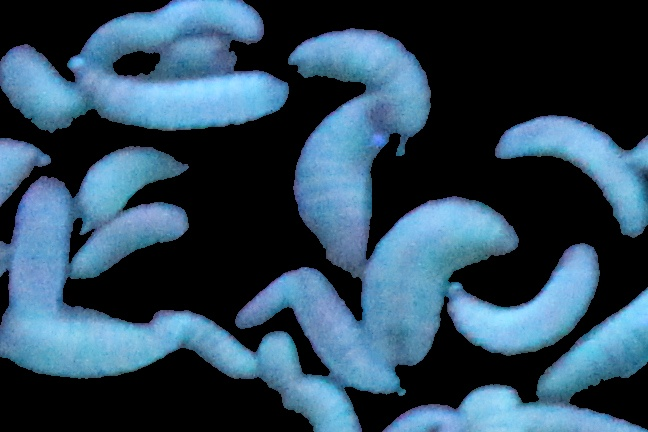larvae: (362, 204, 515, 353), (497, 107, 645, 242), (450, 245, 598, 351), (519, 290, 648, 403), (292, 262, 400, 393), (291, 99, 377, 262), (294, 26, 430, 128), (83, 70, 286, 125), (12, 185, 79, 318), (3, 323, 165, 376), (1, 41, 82, 129), (81, 220, 188, 279), (176, 311, 251, 386), (284, 373, 363, 432), (86, 142, 161, 202), (228, 263, 298, 325), (76, 11, 158, 61), (161, 1, 264, 40), (256, 329, 304, 394)
